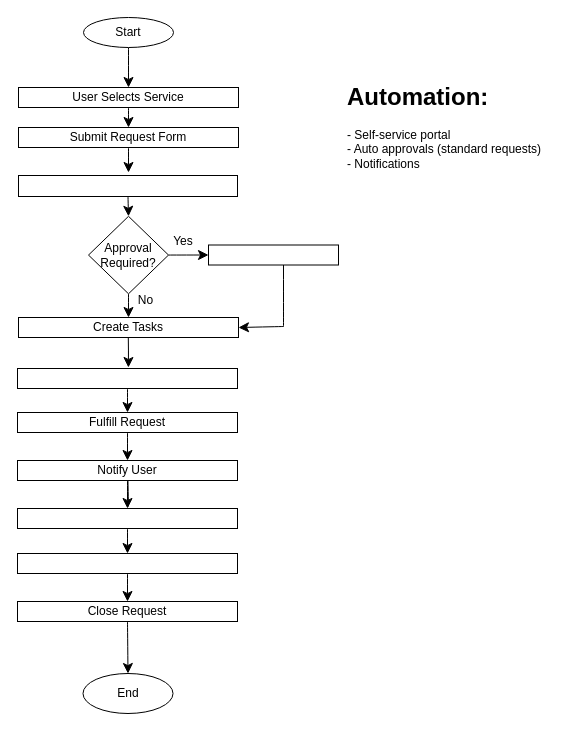
Some shapes in this 570 by 731 pixel diagram are drawn without their labels. The shapes that lost their labels are listed below. From the top down, each one's centre as x and y in pixels, then its label:
At (128,185): "Validate Request".
At (273,254): "Manager Approval".
At (127,378): "Assign to Fulfillment Group".
At (127,518): "User Confirms Completion".
At (127,563): "Send Satisfaction Survey".
